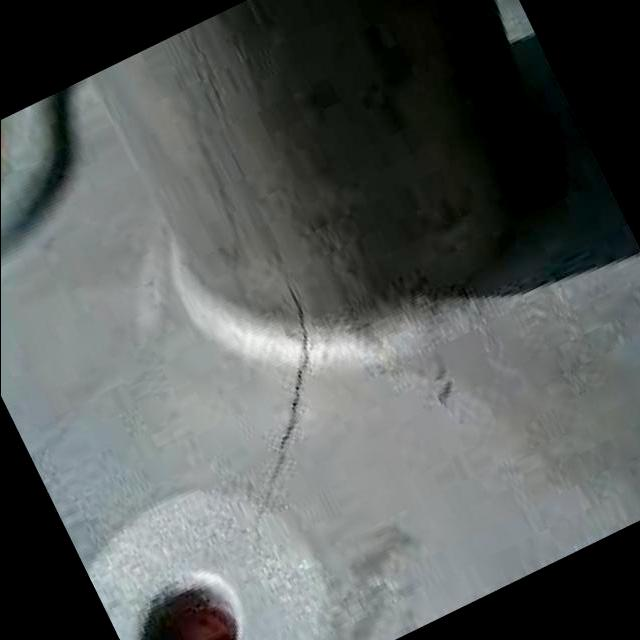defect: (253, 276, 314, 551)
